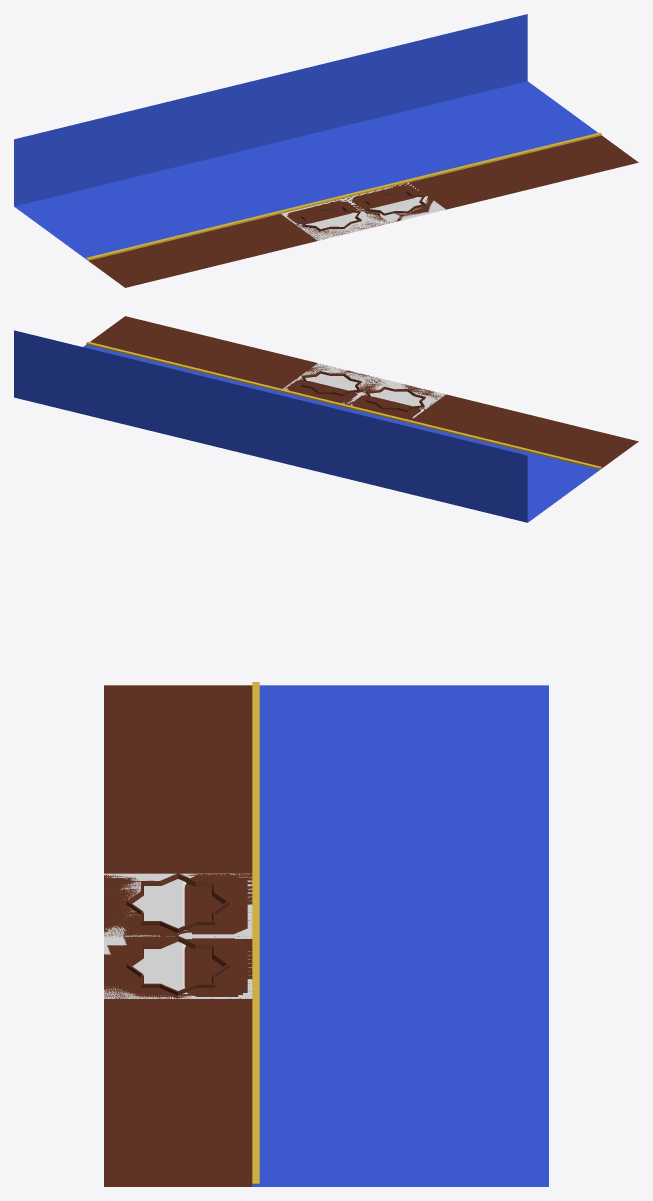
Rendered from StageExport 1-6.fbx.
3 views of the same model, one above another, from view 1: azimuth 30°, elevation 25°; view 2: azimuth 150°, elevation 25°; view 3: azimuth 270°, elevation 25° (orthographic). The views are drawn at different scales.
Visible parts, largest first — view 1: Stage_Main, Stage_DiceBoard, Stage_StarTrays.002, Stage_StarTrays, Stage_DiceBoardComplete, Stage_DiceTrays; view 2: Stage_Main, Stage_DiceBoard, Stage_StarTrays.002, Stage_StarTrays, Stage_DiceBoardComplete, Stage_DiceTrays; view 3: Stage_Main, Stage_DiceBoard, Stage_StarTrays.002, Stage_StarTrays, Stage_DiceBoardComplete, Stage_DiceTrays.
Boxes of the visible parts, x1,y1,x2,y2 form: Stage_Main: [14, 14, 597, 260]; Stage_DiceBoard: [86, 132, 638, 287]; Stage_StarTrays.002: [86, 133, 636, 287]; Stage_StarTrays: [287, 183, 433, 240]; Stage_DiceBoardComplete: [299, 196, 445, 240]; Stage_DiceTrays: [281, 182, 421, 227]; Stage_Main: [14, 330, 601, 522]; Stage_DiceBoard: [86, 316, 638, 469]; Stage_StarTrays.002: [87, 316, 634, 469]; Stage_StarTrays: [284, 364, 444, 420]; Stage_DiceBoardComplete: [300, 363, 445, 407]; Stage_DiceTrays: [283, 376, 427, 418]; Stage_Main: [252, 685, 548, 1186]; Stage_DiceBoard: [104, 682, 259, 1186]; Stage_StarTrays.002: [104, 682, 259, 1186]; Stage_StarTrays: [104, 873, 252, 998]; Stage_DiceBoardComplete: [104, 873, 178, 998]; Stage_DiceTrays: [178, 873, 252, 998].
Size of the model in its own units: 800 by 300 by 111.
